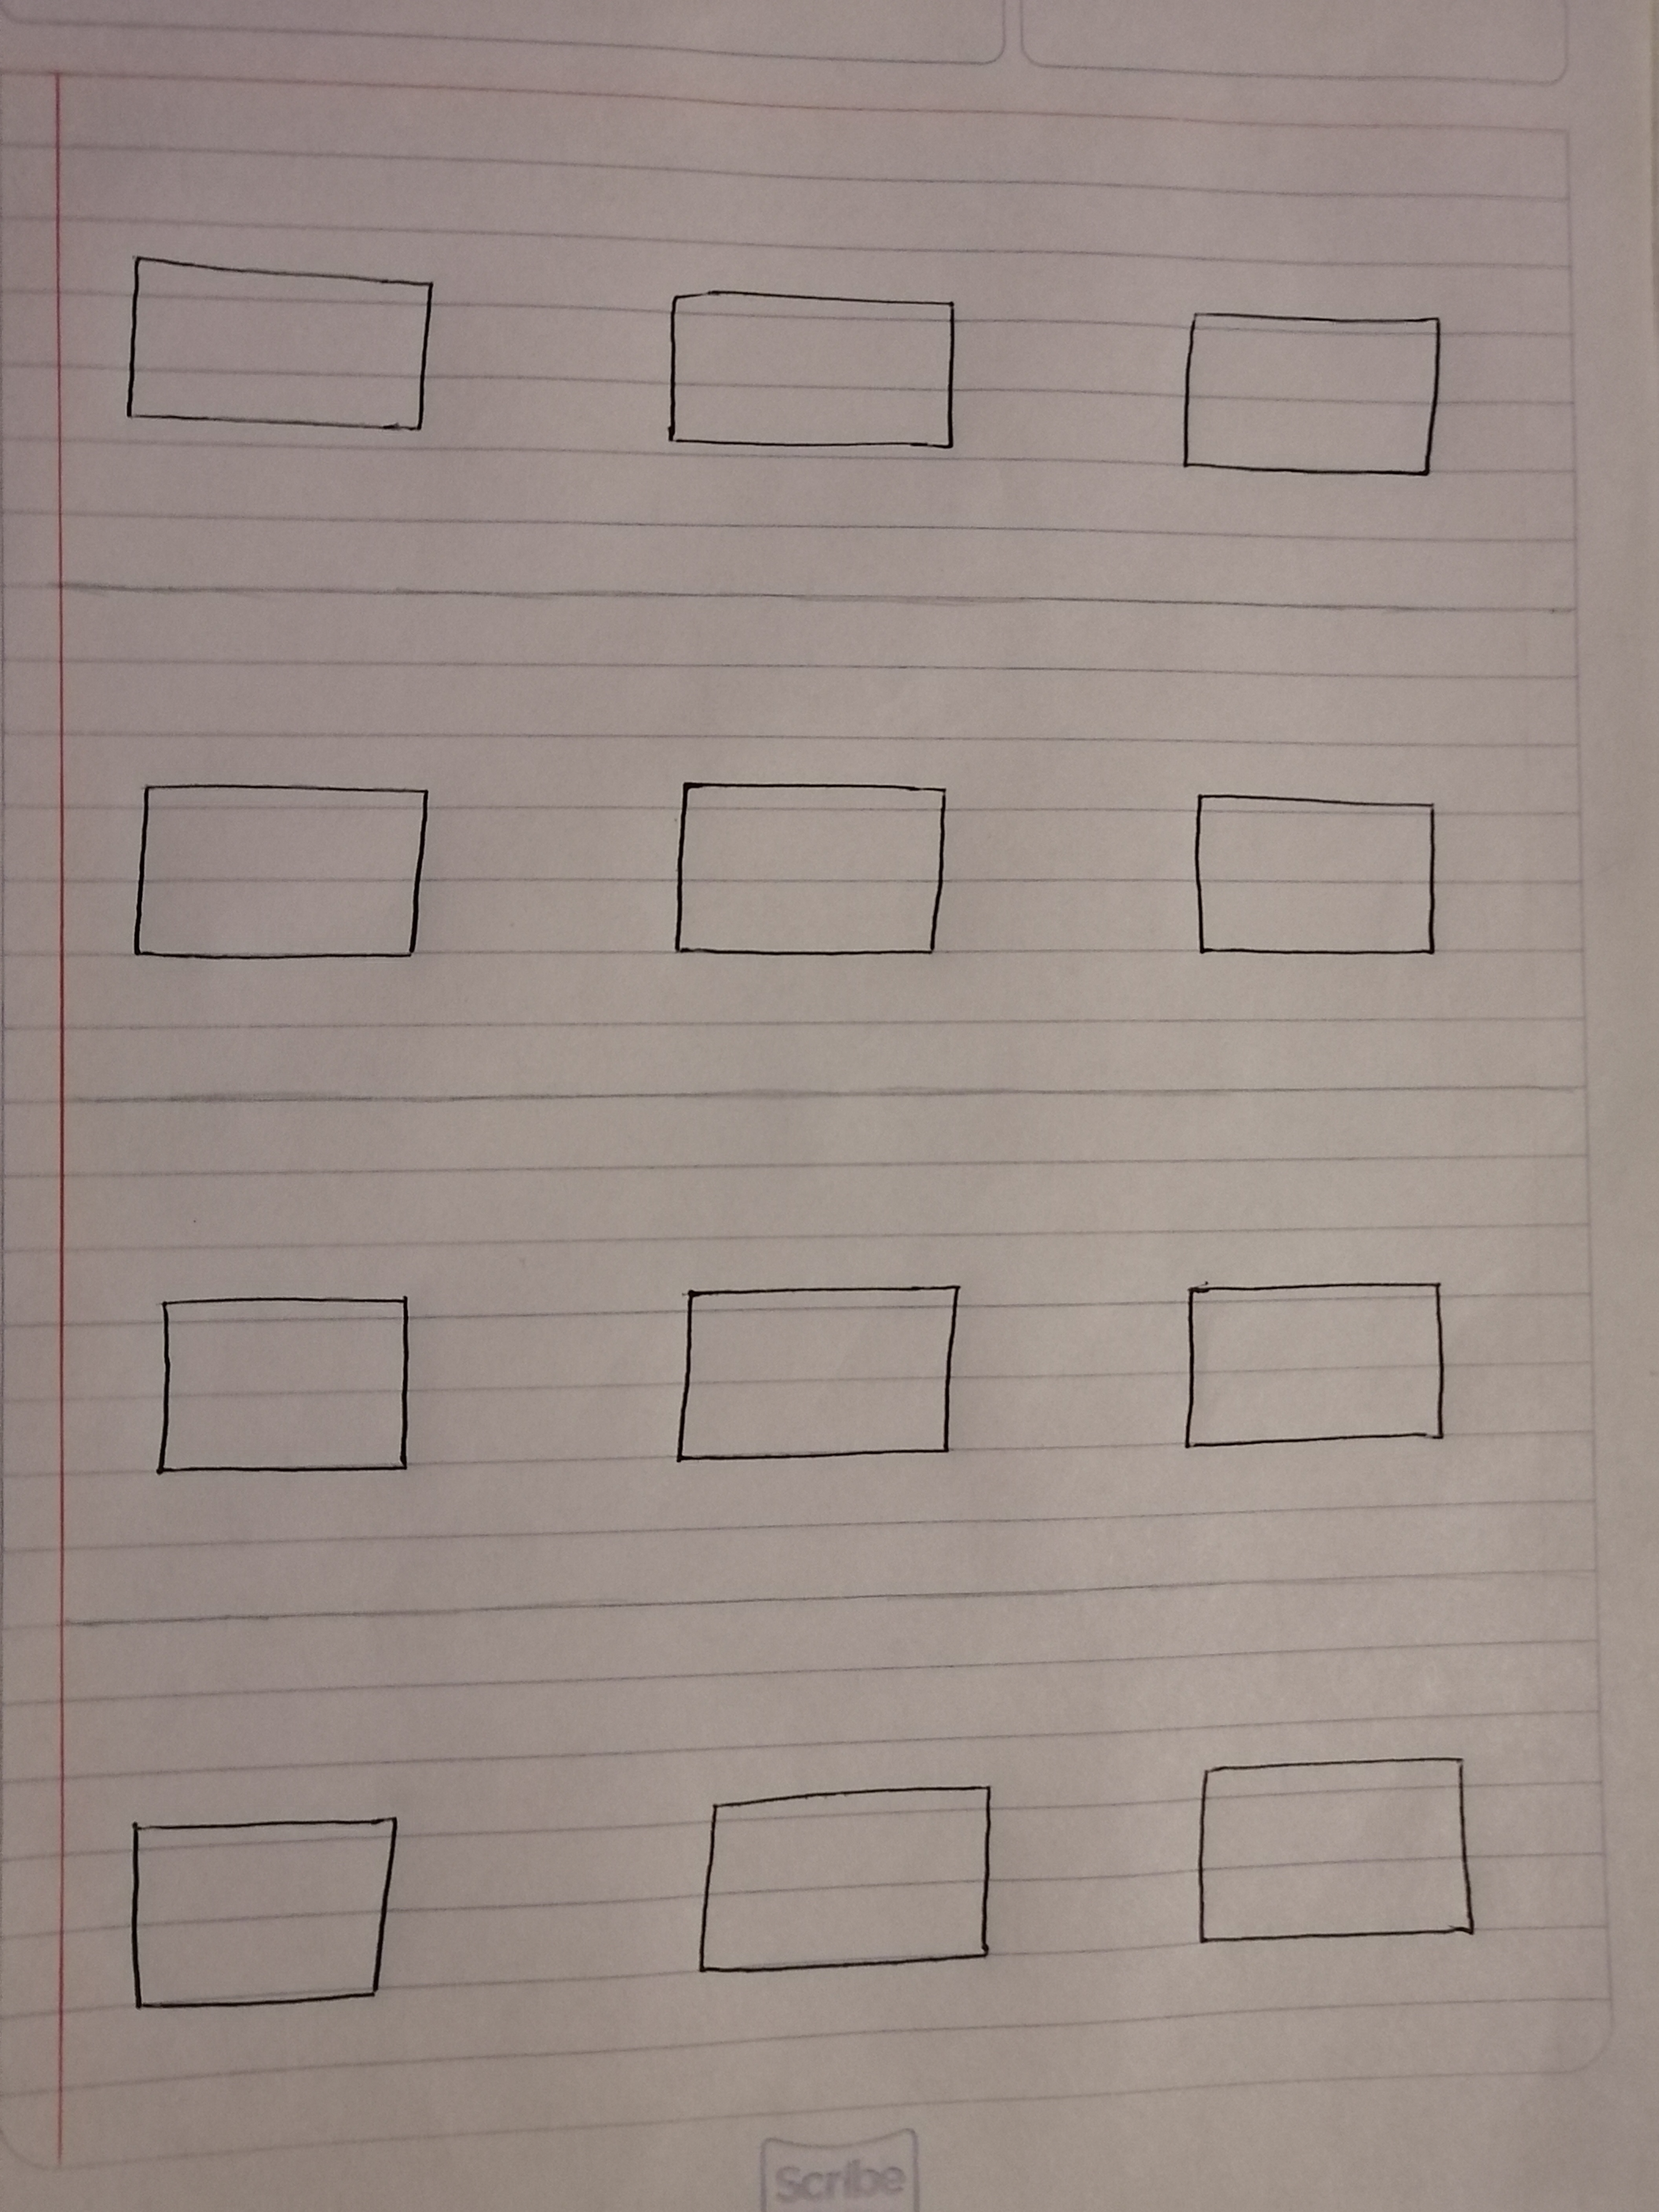process: (641, 1242, 1006, 1545), (660, 1742, 1032, 2038), (1155, 1716, 1523, 1994), (96, 221, 471, 495), (610, 242, 1002, 498), (103, 1256, 471, 1527), (638, 745, 1009, 1010), (99, 756, 467, 1021), (1148, 749, 1488, 1017), (1148, 1238, 1495, 1498), (92, 1780, 420, 2052), (1148, 270, 1492, 517)
